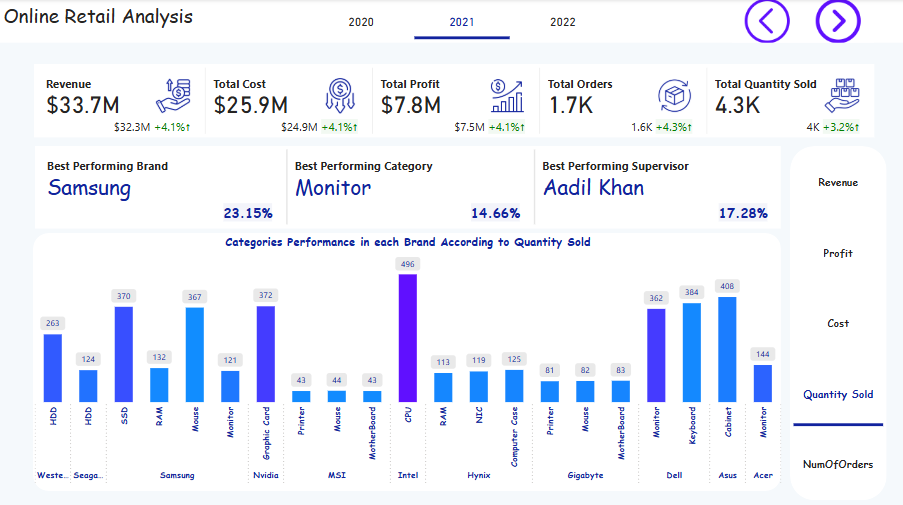

This screenshot's page, from the dashboard's own definition file:
{"tool":"powerbi","page":{"name":"Performance","canvas":[1280,720],"ordinal":2},"visuals":[{"type":"group","id":"g1","title":"Group 1","box":[0,0,1280,62],"z":0},{"type":"textbox","box":[0,0,1280,62],"z":0,"group":"g1"},{"type":"advancedSlicerVisual","fields":{"Values":["Online-eCommerce.Order Date.Variation.Date Hierarchy.Year"]},"box":[438.8,0,431.2,62],"z":1000,"group":"g1"},{"type":"shape","box":[1119.5,208.7,137.2,502.1],"z":1000},{"type":"cardVisual","fields":{"Data":["_Measures.Revenue","_Measures.Total Cost","_Measures.Total Profit","_Measures.Total Orders","_Measures.Total Quantity Sold"]},"box":[48.4,92.3,1190.7,104.4],"z":2000},{"type":"advancedSlicerVisual","fields":{"Values":["Selection Table.Measure Name"]},"box":[1119.5,208.7,137.2,502.1],"z":3000},{"type":"shape","box":[46.8,331.7,1060.2,365.7],"z":4000},{"type":"columnChart","fields":{"Y":["_Measures.DynamicMeasure"],"Category":["Online-eCommerce.Brand","Online-eCommerce.Category"]},"box":[36.9,331.7,1082.8,365.7],"z":5000},{"type":"cardVisual","fields":{"Data":["_Measures.Best Performing Brand","_Measures.Best Performing Category","_Measures.Best Performing Supervisor"]},"box":[49.6,208.7,1056.7,116.8],"z":6000},{"type":"actionButton","box":[1138.1,0,100.6,62.4],"z":7000},{"type":"actionButton","box":[1037.5,0,100.6,62.4],"z":8000}]}

Visuals, with their boxes in screenshot pixels (x1, y1, x2, y2), scaled from the page's 1280x720 canvas onto the 903x505 screenshot:
"Group 1" group: Rect(0, 0, 902, 43)
textbox: Rect(0, 0, 902, 43)
advancedSlicerVisual - Online-eCommerce.Order Date.Variation.Date Hierarchy.Year: Rect(310, 0, 614, 43)
shape: Rect(790, 146, 887, 499)
cardVisual - _Measures.Revenue x _Measures.Total Cost: Rect(34, 65, 874, 138)
advancedSlicerVisual - Selection Table.Measure Name: Rect(790, 146, 887, 499)
shape: Rect(33, 233, 781, 489)
columnChart - _Measures.DynamicMeasure x Online-eCommerce.Brand: Rect(26, 233, 790, 489)
cardVisual - _Measures.Best Performing Brand x _Measures.Best Performing Category: Rect(35, 146, 780, 228)
actionButton: Rect(803, 0, 874, 44)
actionButton: Rect(732, 0, 803, 44)
